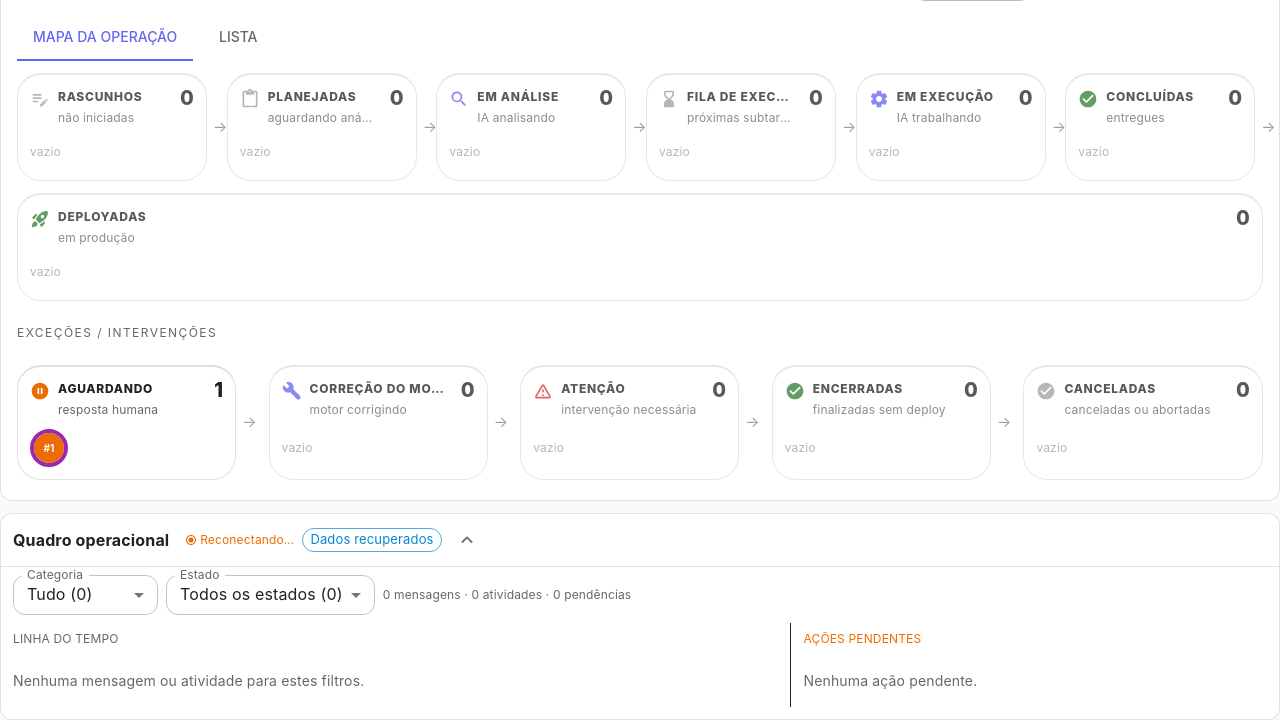
Test case: OperationMapScreen — comportamento do detalhe em telas pequenas e largas › em telas pequenas, botão de reabrir detalhe aparece quando minimizado
The image size is (1280, 720).
(page scrolled)
What coordinates should you click on to do the following:
click the button with test id "operation-map-task-1"
I would click on:
 (49, 448)
Its box is 30,429 -> 68,467.
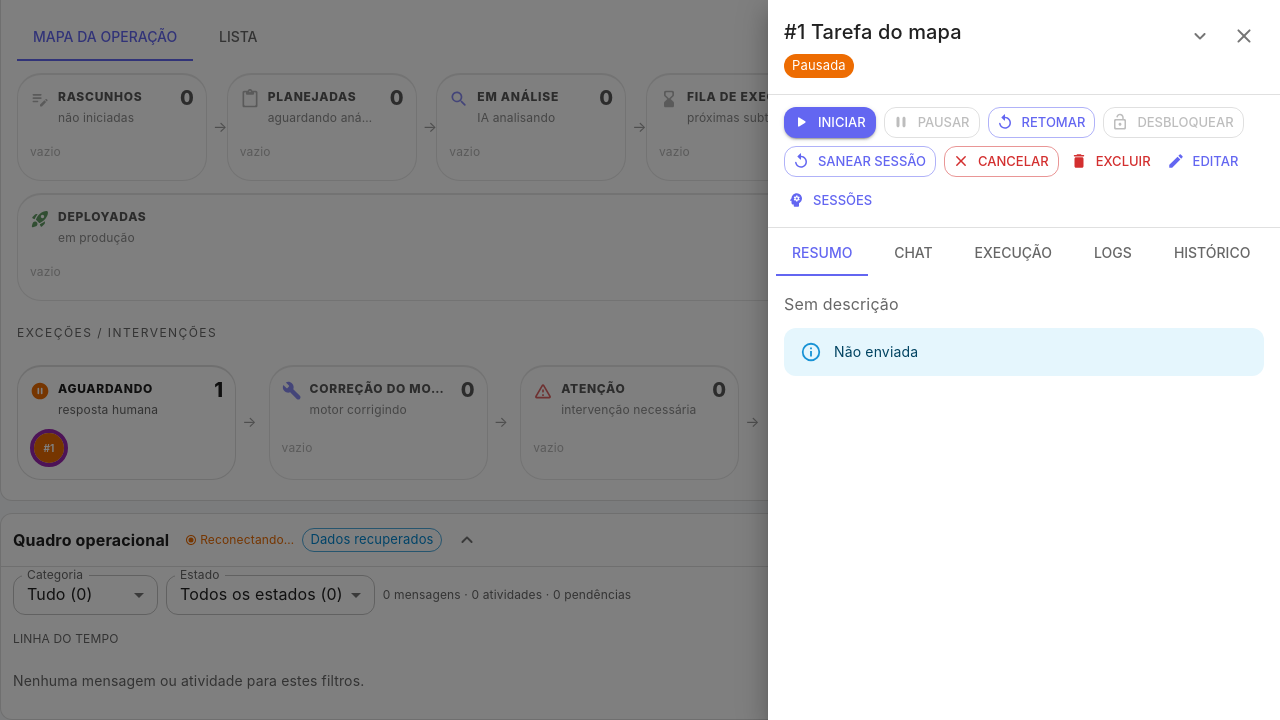
Now the element with test id "operation-task-drawer" is shown
Clica no botão de minimizar
What coordinates should you click on to do the following:
click the button named "Minimizar detalhe"
I would click on:
 (1200, 36)
Its box is 1180,16 -> 1220,56.
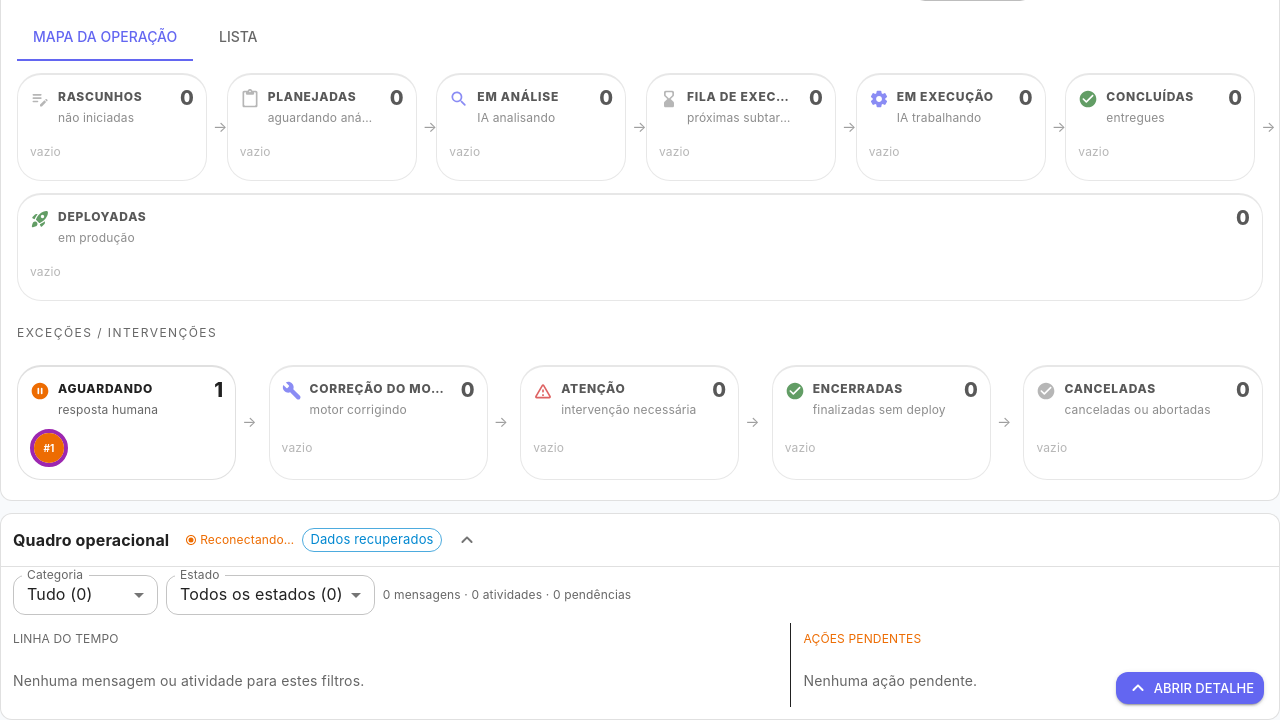
Now the element with test id "operation-task-drawer" is gone
Now the button with test id "btn-reopen-detail" is shown
Clica no botão de reabrir
What coordinates should you click on to do the following:
click the button with test id "btn-reopen-detail"
I would click on:
 (1190, 688)
Its box is 1116,672 -> 1264,704.
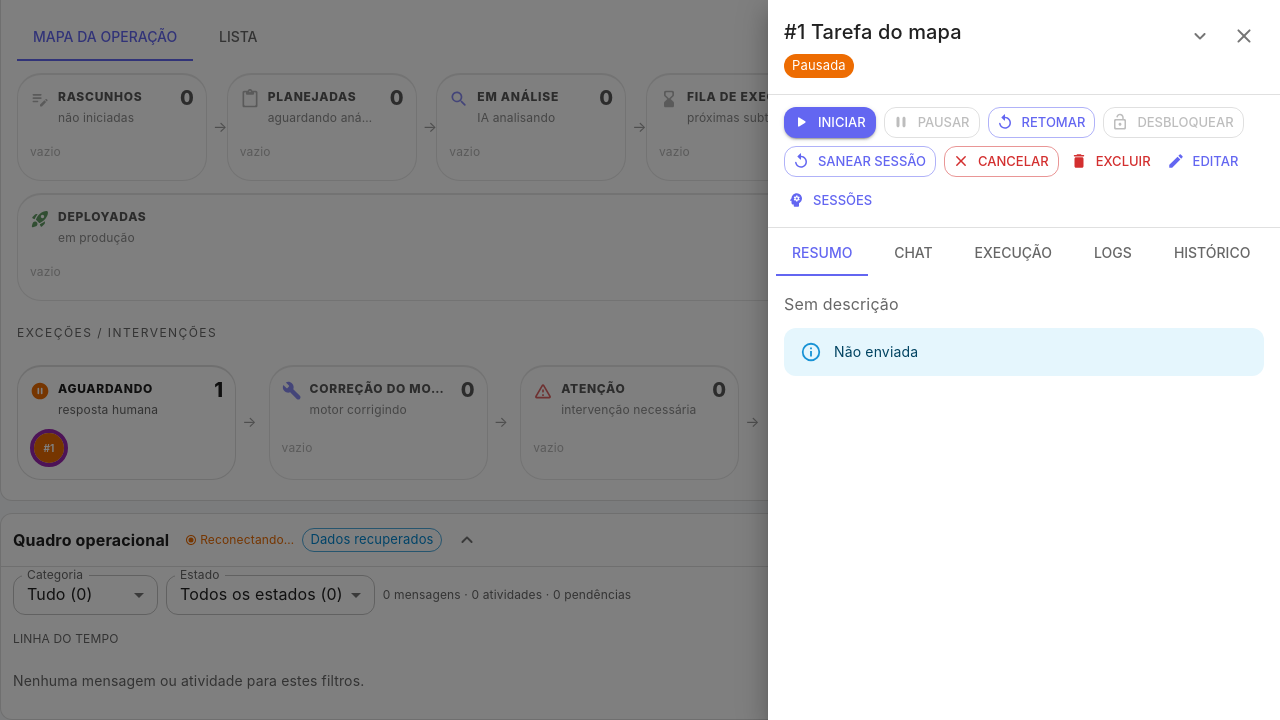
Now the element with test id "operation-task-drawer" is shown
